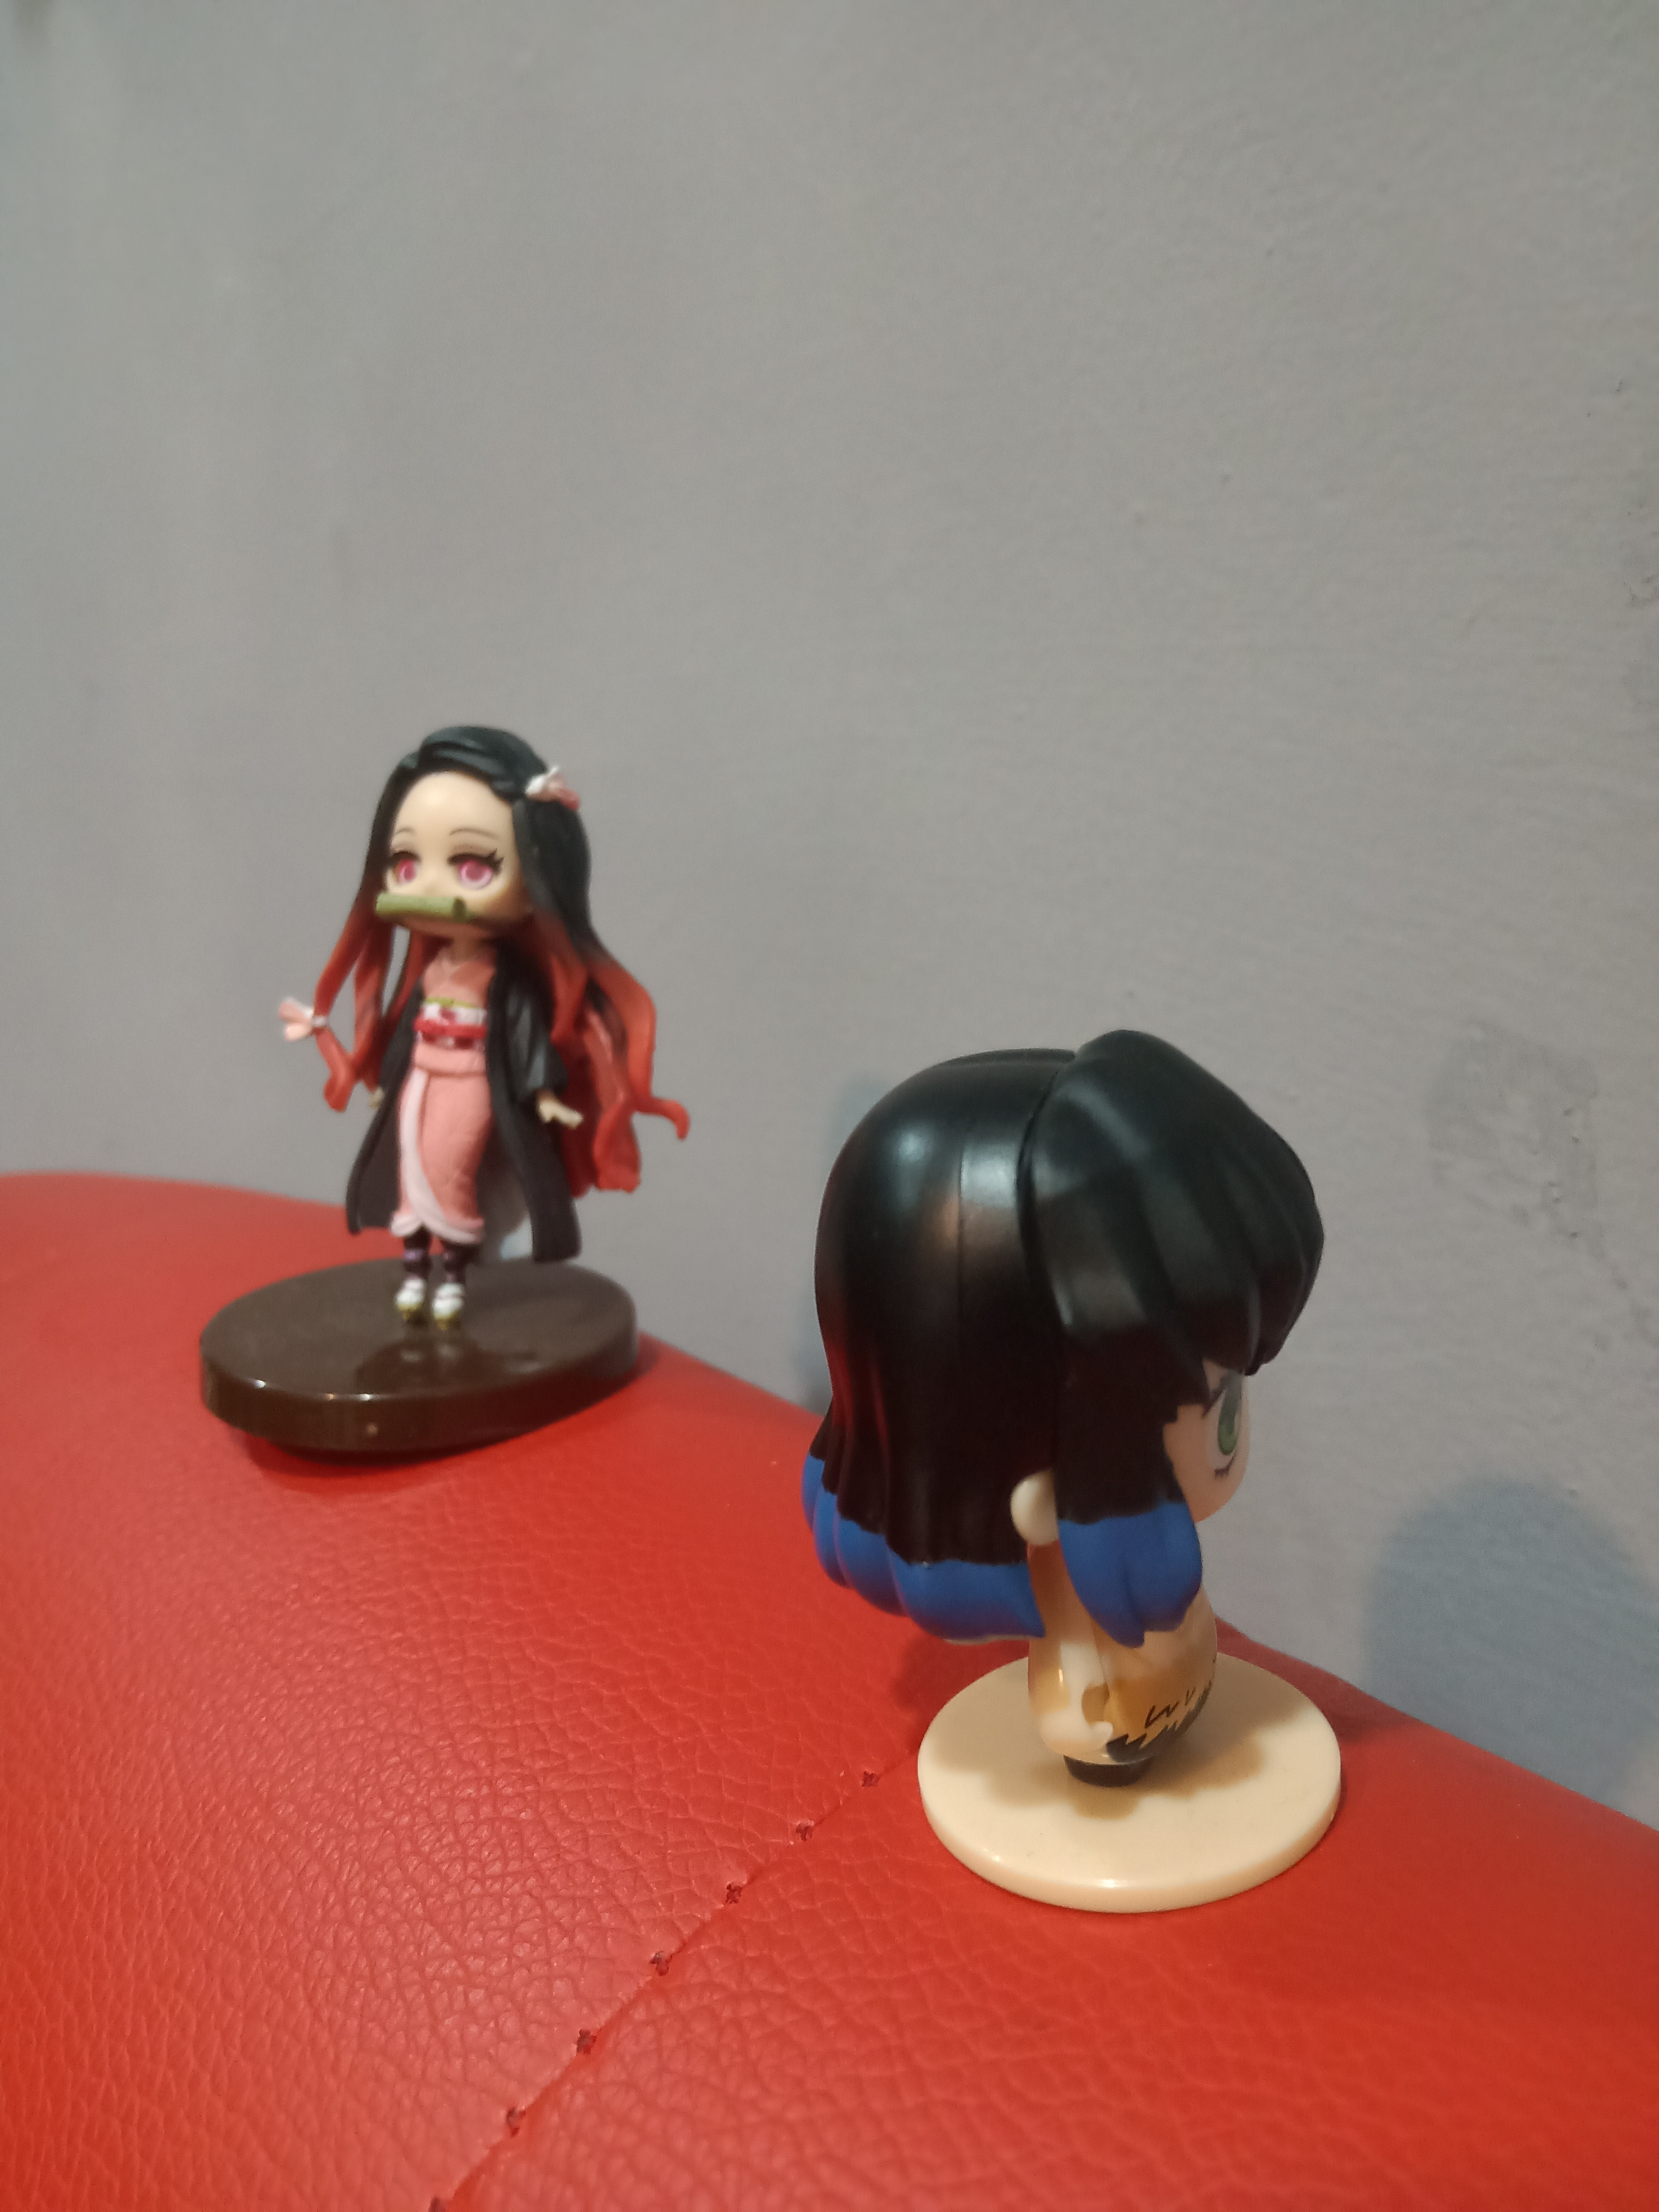Inosuke: (762, 1017, 1413, 1939)
Nezuko: (160, 711, 716, 1484)
